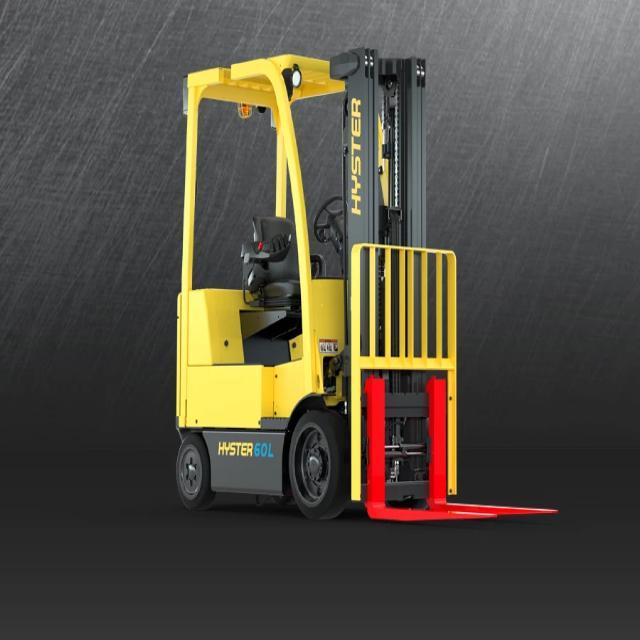forklift: (151, 35, 472, 542)
